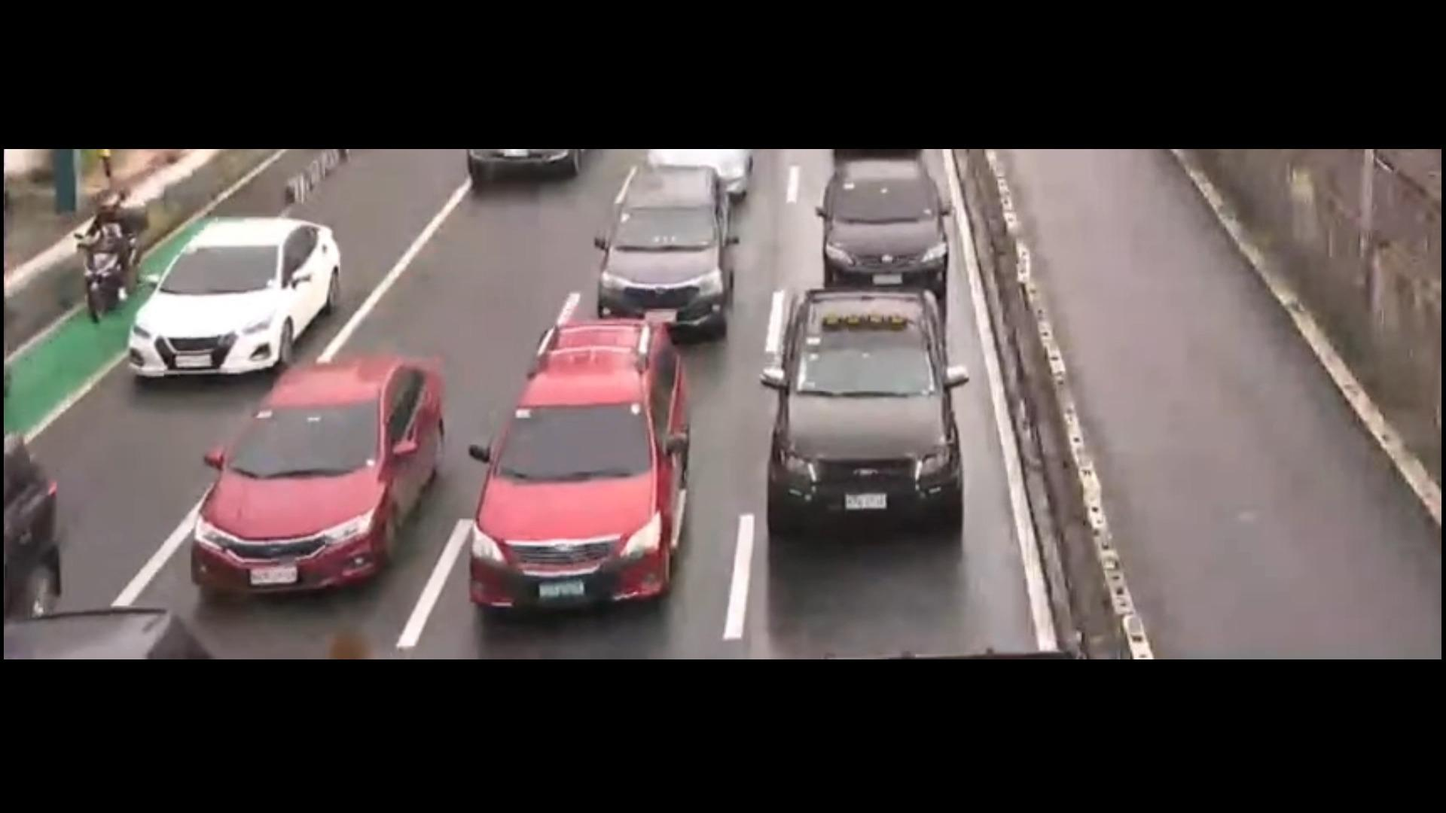Motorcycle: (62, 172, 146, 337)
SUV: (457, 309, 720, 624), (739, 282, 979, 550), (574, 164, 755, 351), (796, 152, 975, 301)
Sedan: (182, 333, 441, 605), (117, 202, 374, 379)
